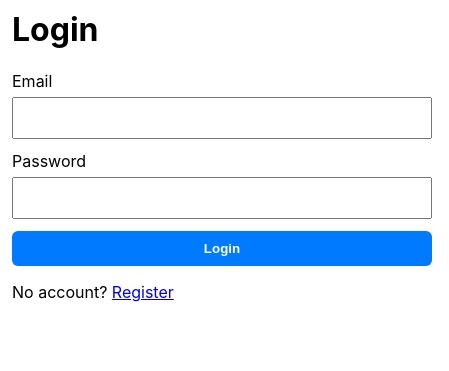
Test case: Login page › shows backend error on failure
This screenshot has width=449, height=371.
Type "a@b.com" into the field labelled "Email" at (222, 118), box [12, 97, 432, 139]
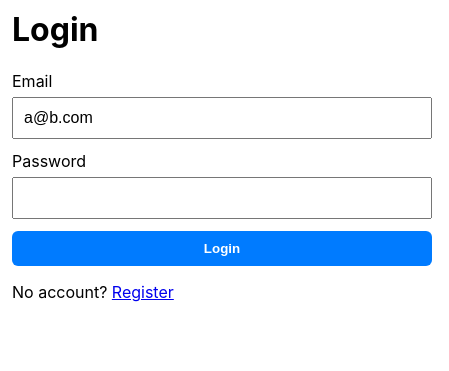
Type "password123" into the password field labelled "Password" at (222, 198), box [12, 177, 432, 219]
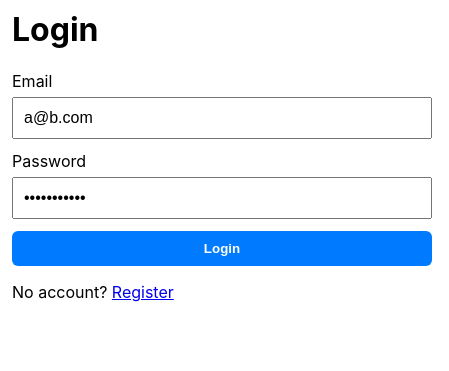
Click the button "Login" at (222, 248), box [12, 231, 432, 266]
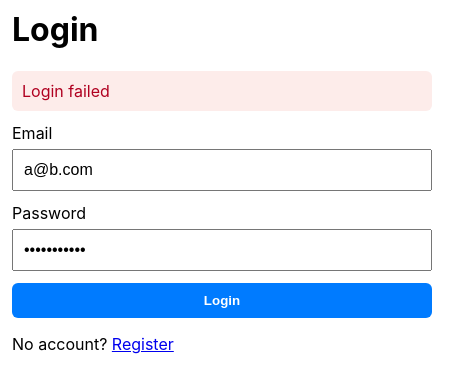
Result: the message reads "Login failed" at [22, 81, 110, 101]
